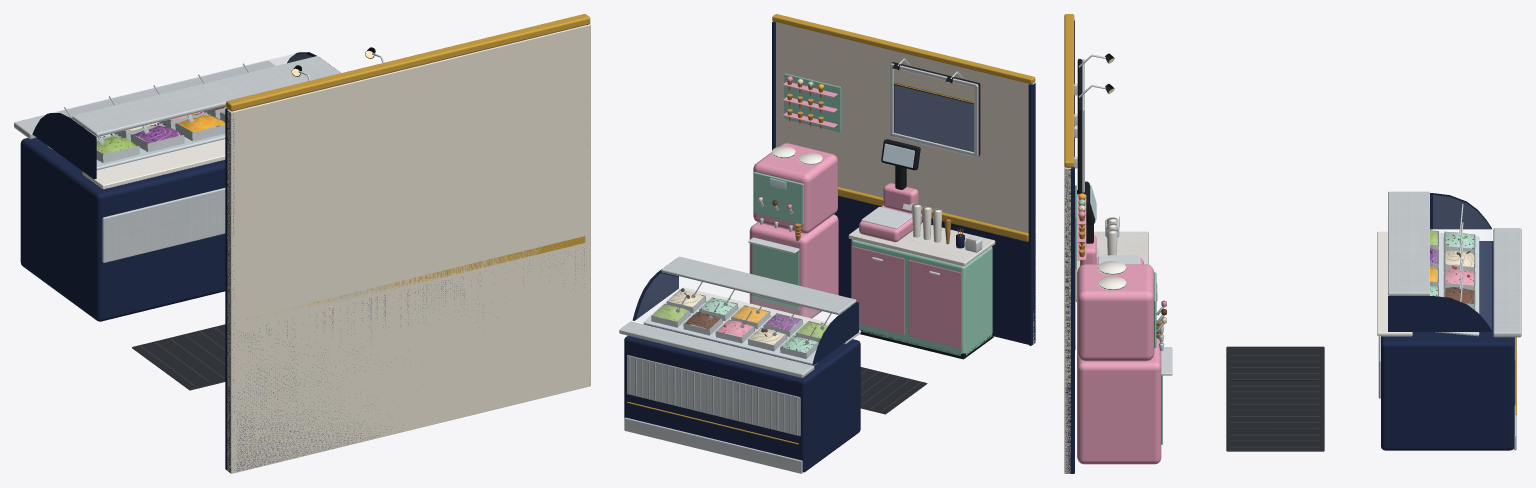
File: sector-sorvetes_T1.fbx
3 renders of one model, left to right at view 1: azimuth 30°, elevation 25°; view 2: azimuth 150°, elevation 25°; view 3: azimuth 270°, elevation 25°, orthographic. The views are drawn at different scales.
Parts seen in each view (by area): view 1: Back Wall, Body; view 2: Body, Back Wall, Wall Dressing; view 3: Body, Back Wall, Wall Dressing.
Part boxes in pixels (x1=…): Back Wall: x1=225, y1=14, x2=590, y2=473; Body: x1=14, y1=52, x2=340, y2=390; Body: x1=619, y1=139, x2=995, y2=473; Back Wall: x1=772, y1=14, x2=1035, y2=345; Wall Dressing: x1=783, y1=58, x2=980, y2=157; Body: x1=1075, y1=181, x2=1521, y2=464; Back Wall: x1=1064, y1=14, x2=1075, y2=473; Wall Dressing: x1=1074, y1=53, x2=1114, y2=269.
Size of the model in its own units: 2.5 by 2.45 by 3.25.
